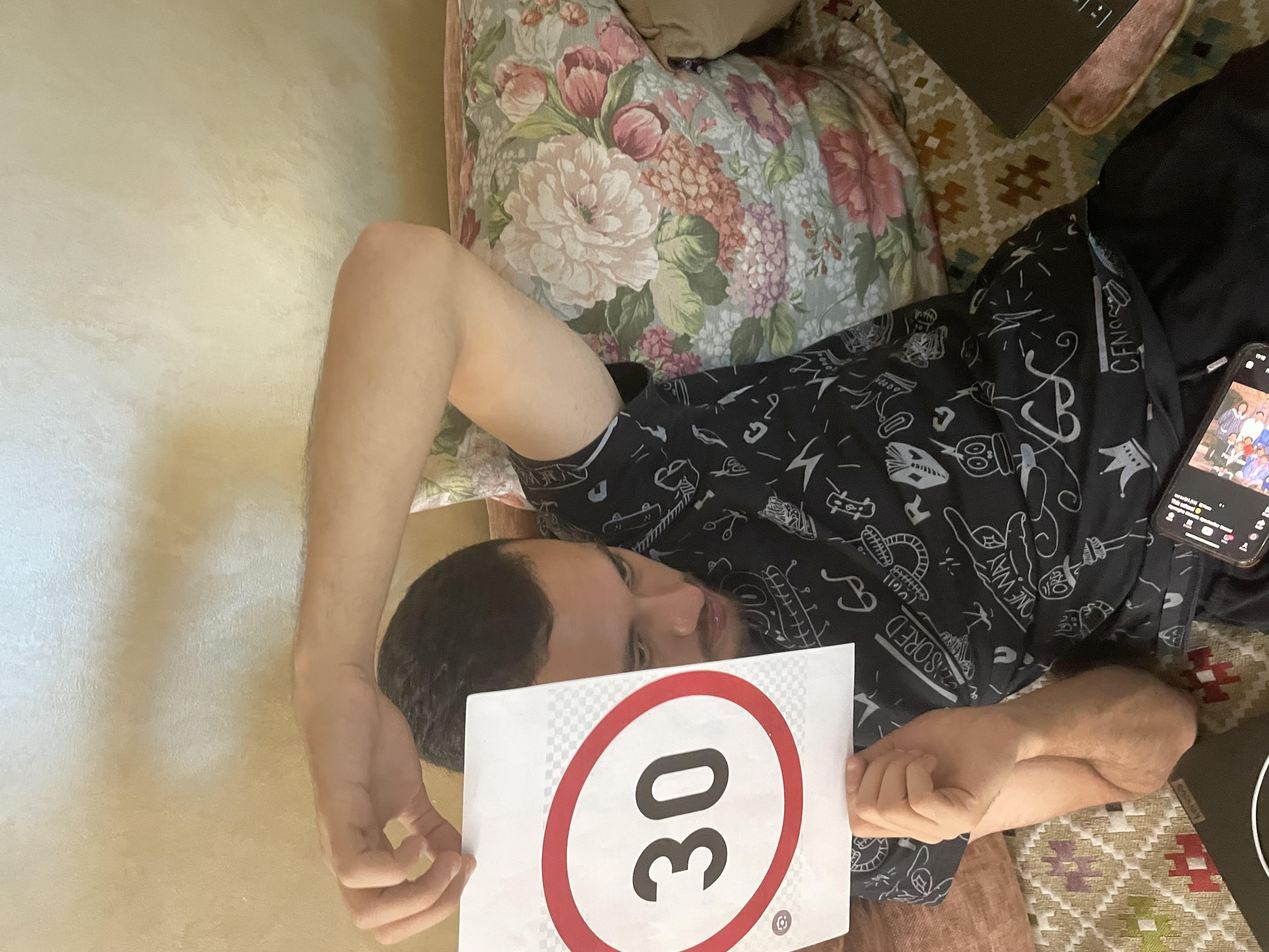30-speed: (0, 404, 391, 609)
